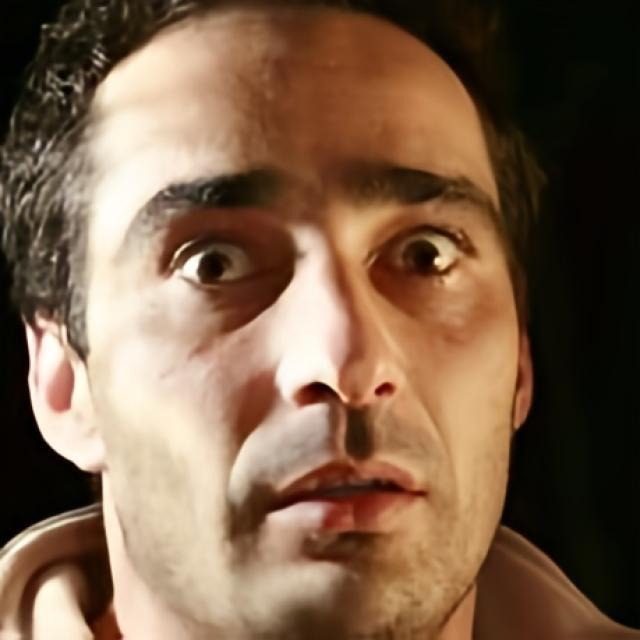Fear: (81, 0, 519, 640)
